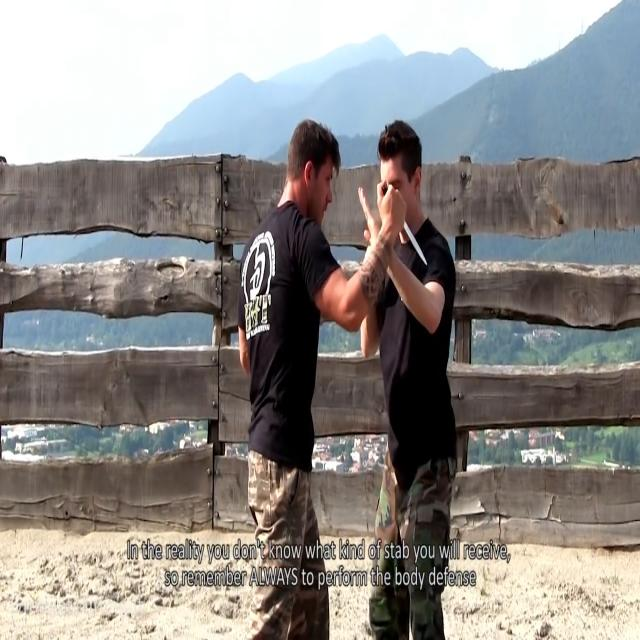knife: (403, 214, 431, 276)
